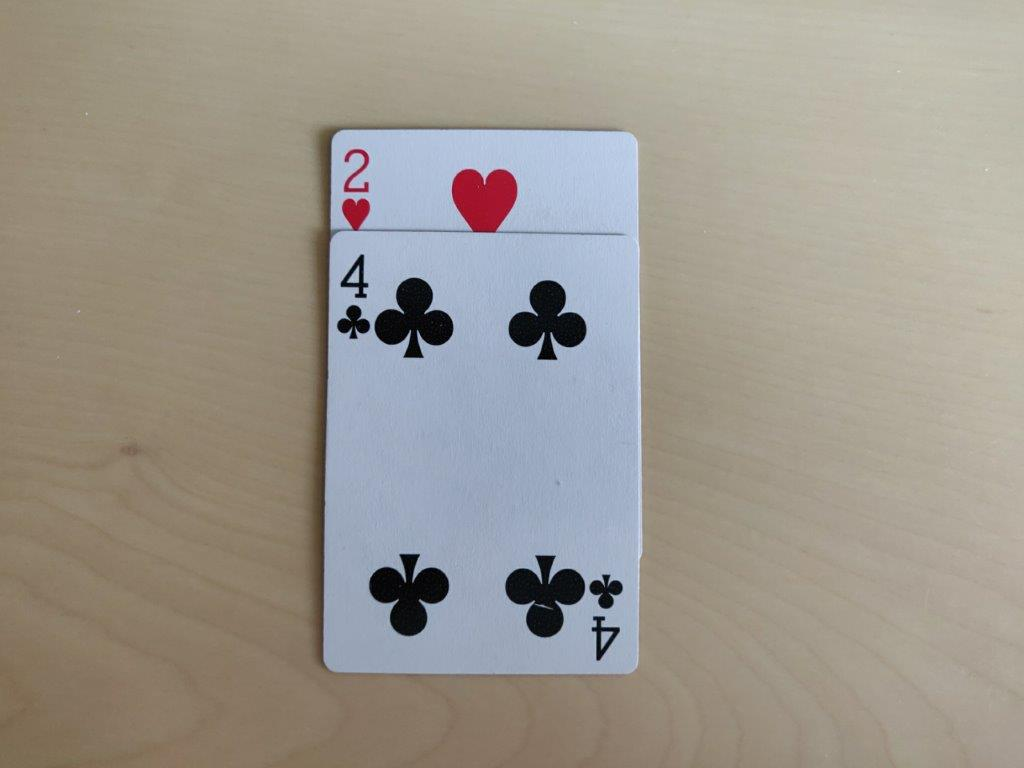2H: (334, 136, 375, 236)
4C: (335, 243, 373, 341)
